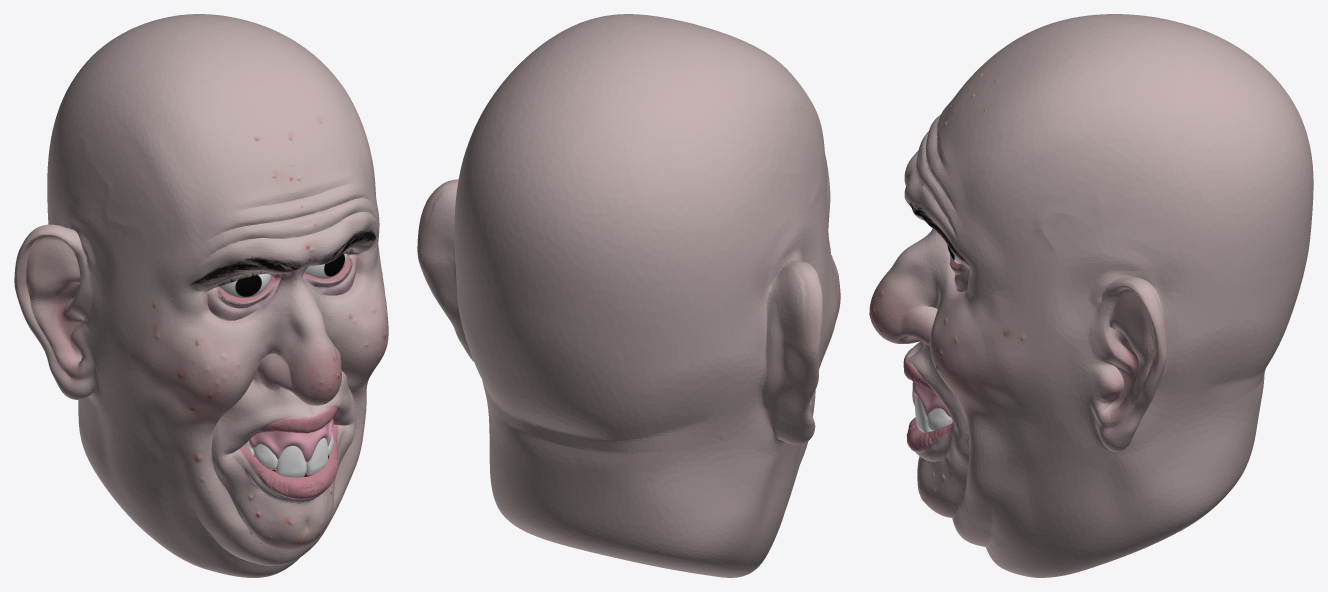
File: Dinky1.glb
3 views of the same model, side by side, from view 1: azimuth 30°, elevation 25°; view 2: azimuth 150°, elevation 25°; view 3: azimuth 270°, elevation 25° (orthographic). The views are drawn at different scales.
Parts seen in each view (by area): view 1: Head, Teeth (×2), Eye (×2); view 2: Head; view 3: Head, Teeth (×2).
Part boxes in pixels (x1,y1,x2,y2): Head: [14, 14, 388, 577]; Teeth (×2): [244, 418, 333, 477]; Eye (×2): [220, 253, 347, 297]; Head: [417, 14, 840, 577]; Head: [869, 14, 1313, 577]; Teeth (×2): [912, 382, 953, 432].
Size of the model in its own units: 1.07 by 1.44 by 1.09.
